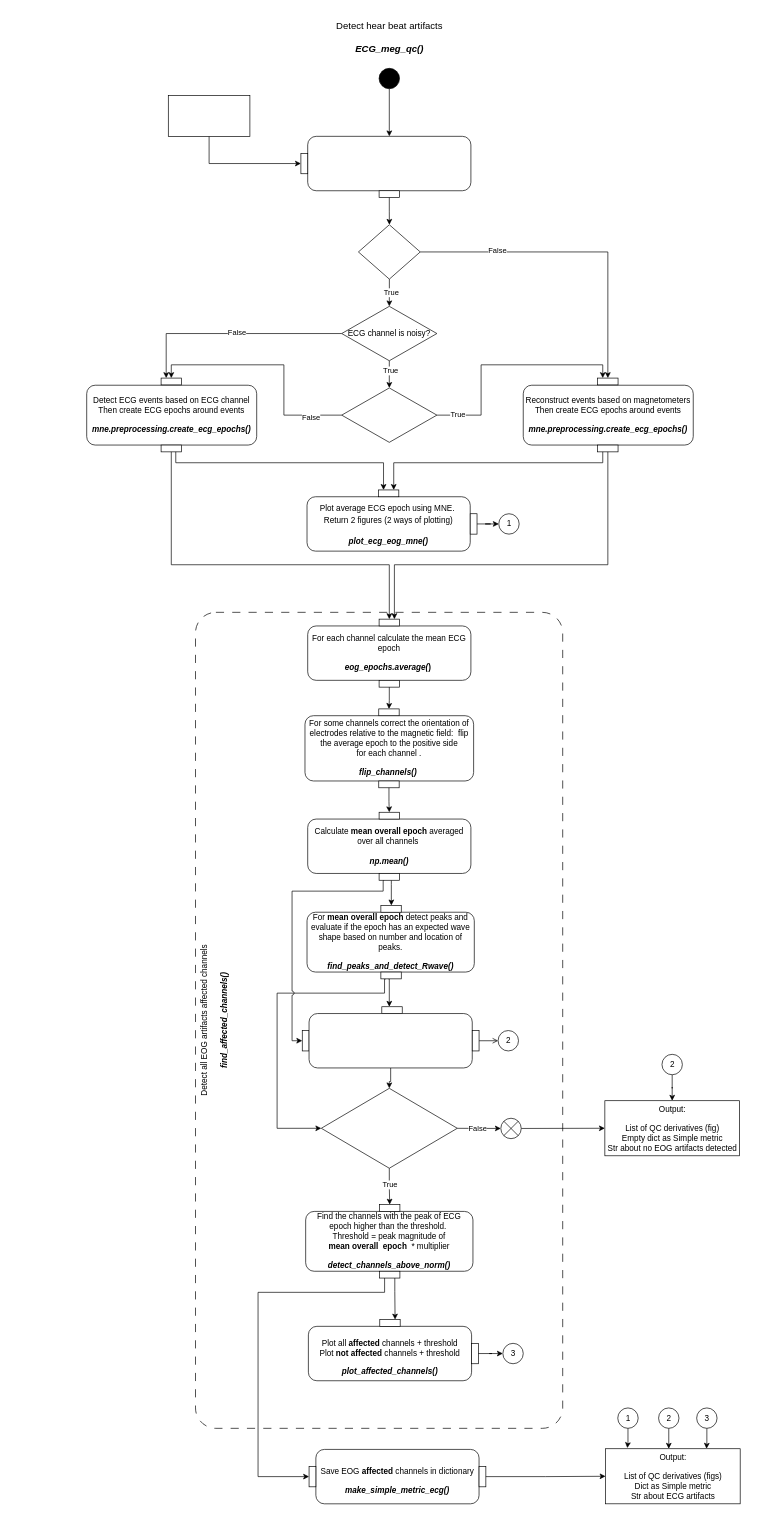
Some shapes in this 778 by 1523 pixel diagram are drawn without their labels. Here are the shapes that lost their labels. From the top down, the centre of each, then its label:
At (209,115): "Input: Raw data, Config parameters".
At (389,163): "Pick ECG channels mne.pick_types(ecg=True)".
At (389,251): "ECG channels present?".
At (389,414): "Drop noisy ECG? (config setting)".
At (390,1040): "Plot mean overall epoch and highlight detected peaks plot_epoch_and_peak()".
At (389,1128): "Mean overall epoch has expected shape (prominent peak at specific time point)?".
